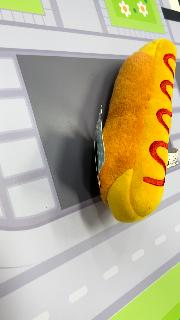hotdog: (96, 38, 178, 224)
